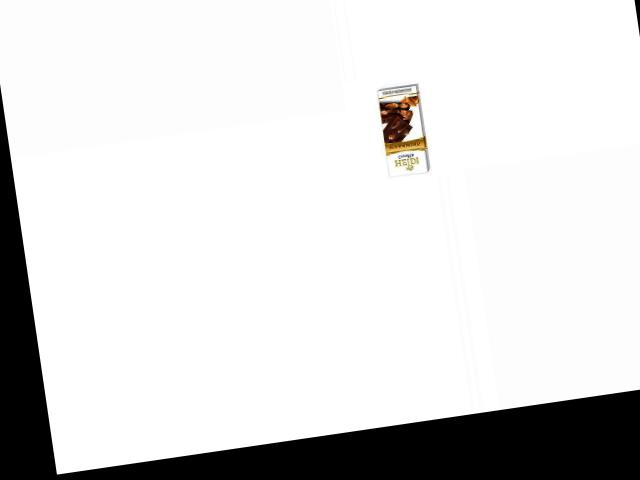chocolate: (367, 83, 438, 184)
